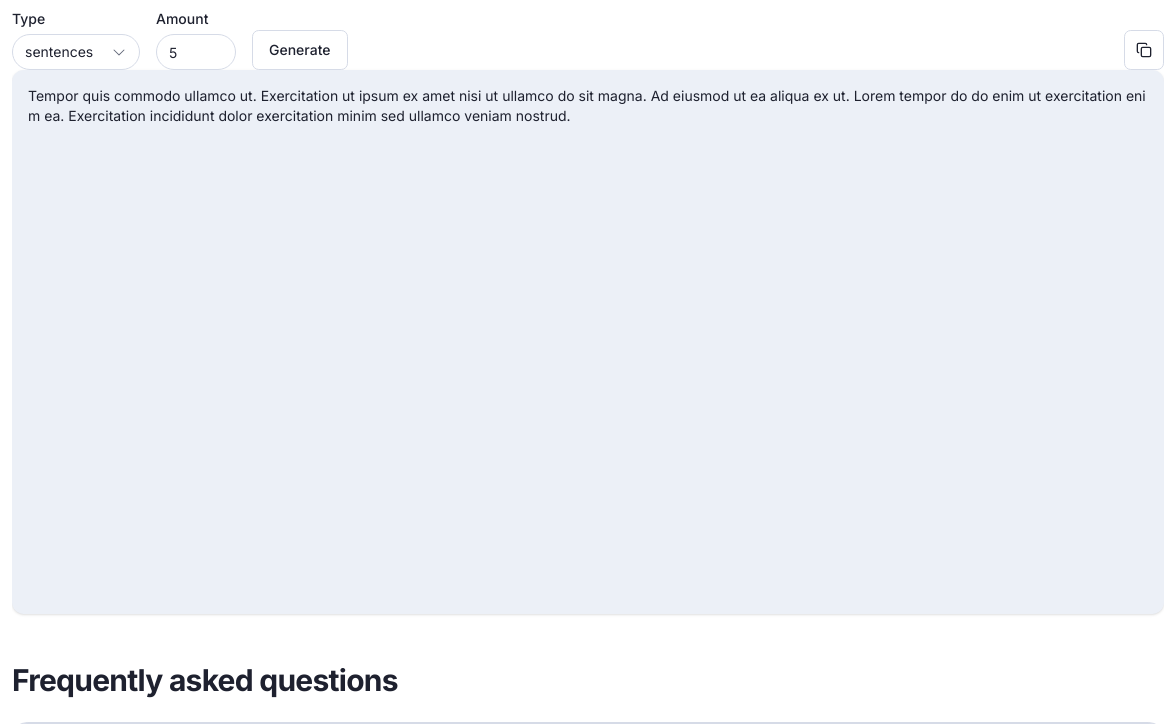
Scenario: <RandomTextGenerator /> › clamps the amount when changing to a type with a lower limit
Step 1. Click the dropdown with test id "random-text-type-trigger" → {"x": 76, "y": 52}, box [12,34,140,70]
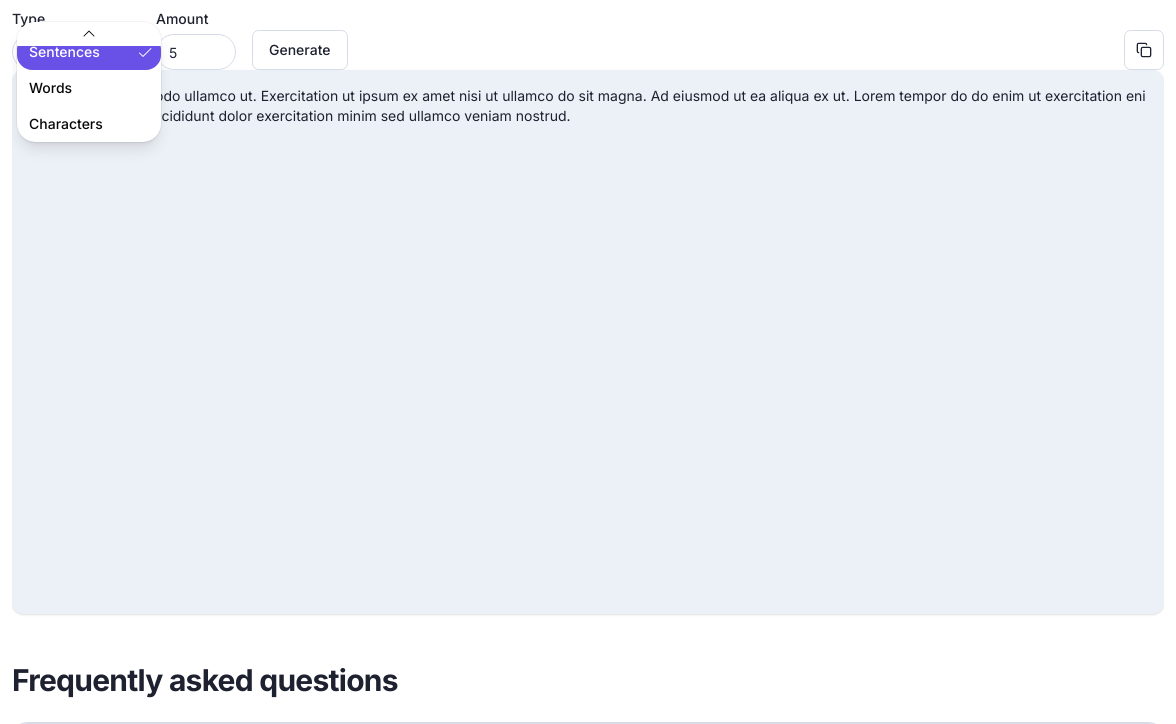
Step 2. Click the option with test id "random-text-type-words" → {"x": 51, "y": 88}, box [29,79,72,96]
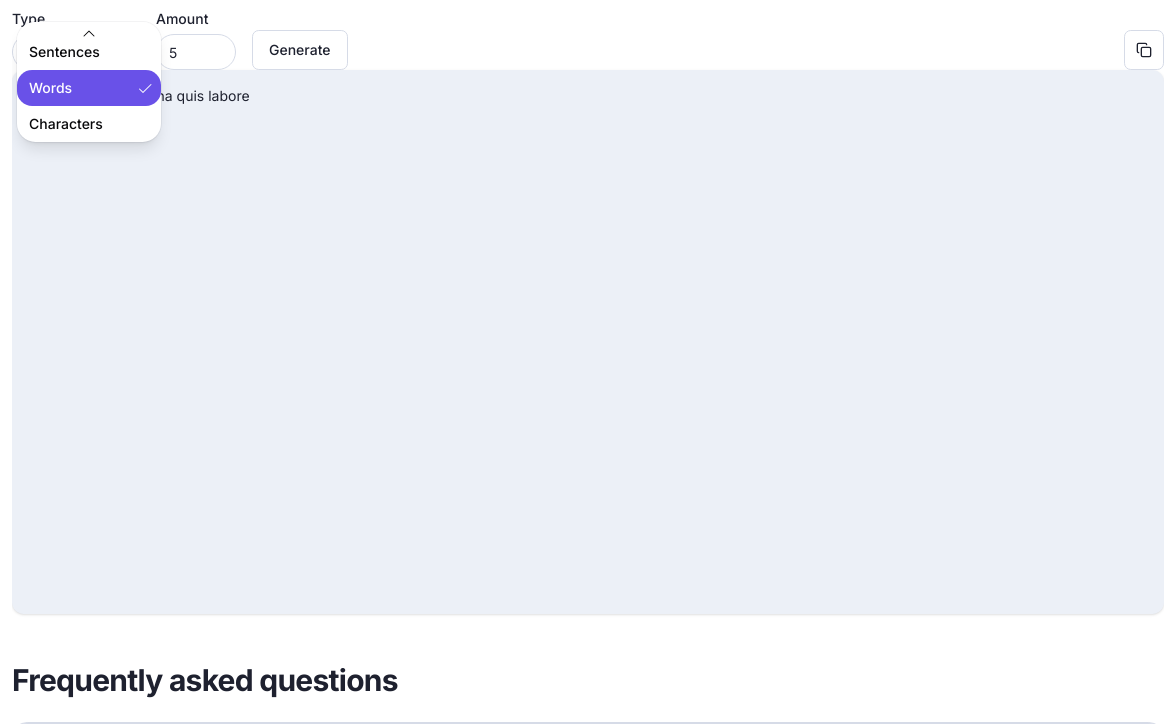
Step 3. Replace the text in the number field with test id "random-text-amount" with "1000" → {"x": 196, "y": 52}, box [156,34,236,70]
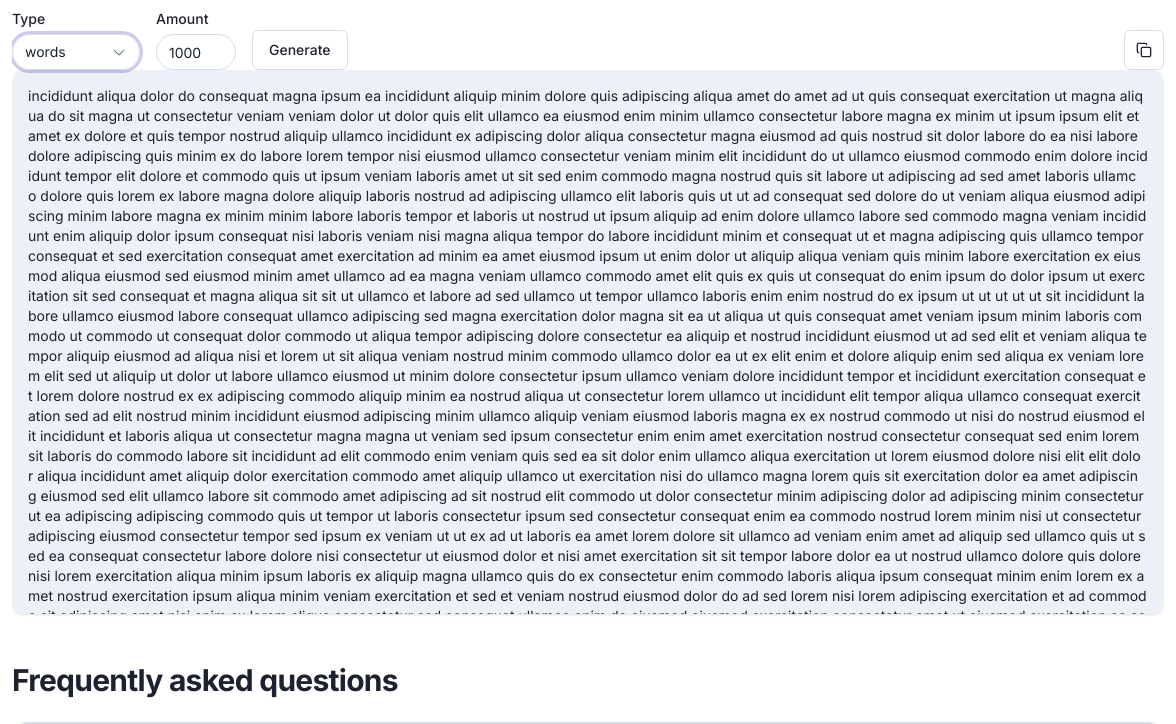
Step 4. Click the dropdown with test id "random-text-type-trigger" → {"x": 76, "y": 52}, box [12,34,140,70]
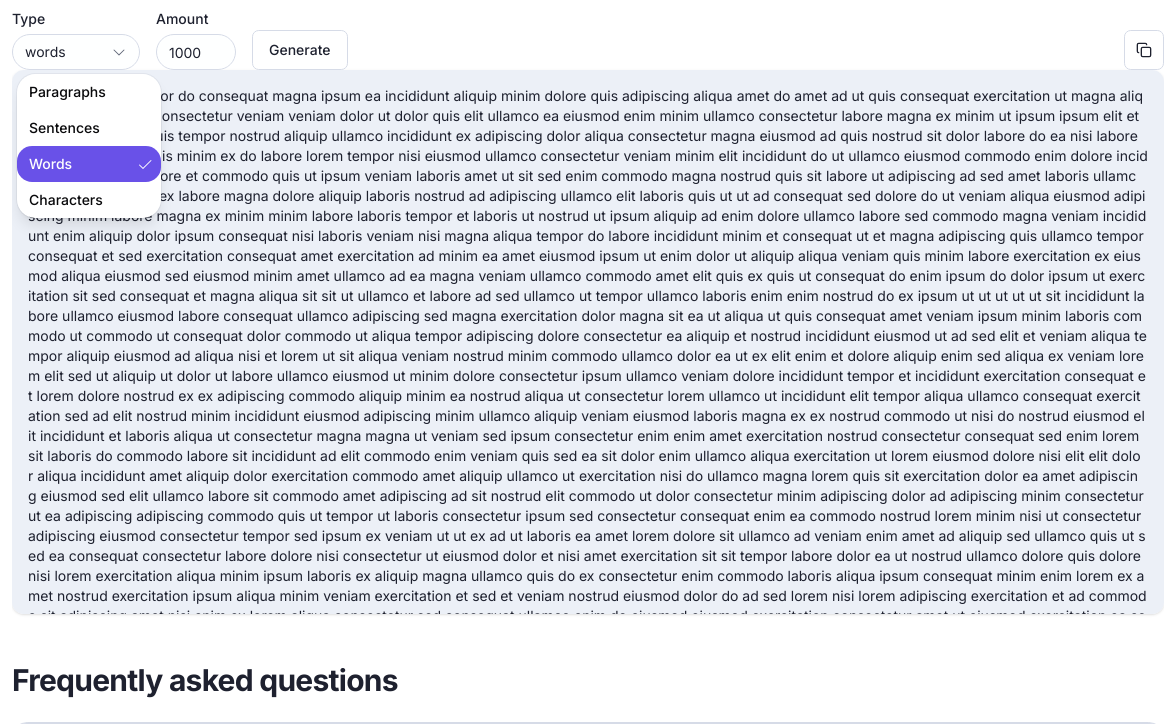
Step 5. Click the option with test id "random-text-type-paragraphs" → {"x": 67, "y": 92}, box [29,83,106,100]
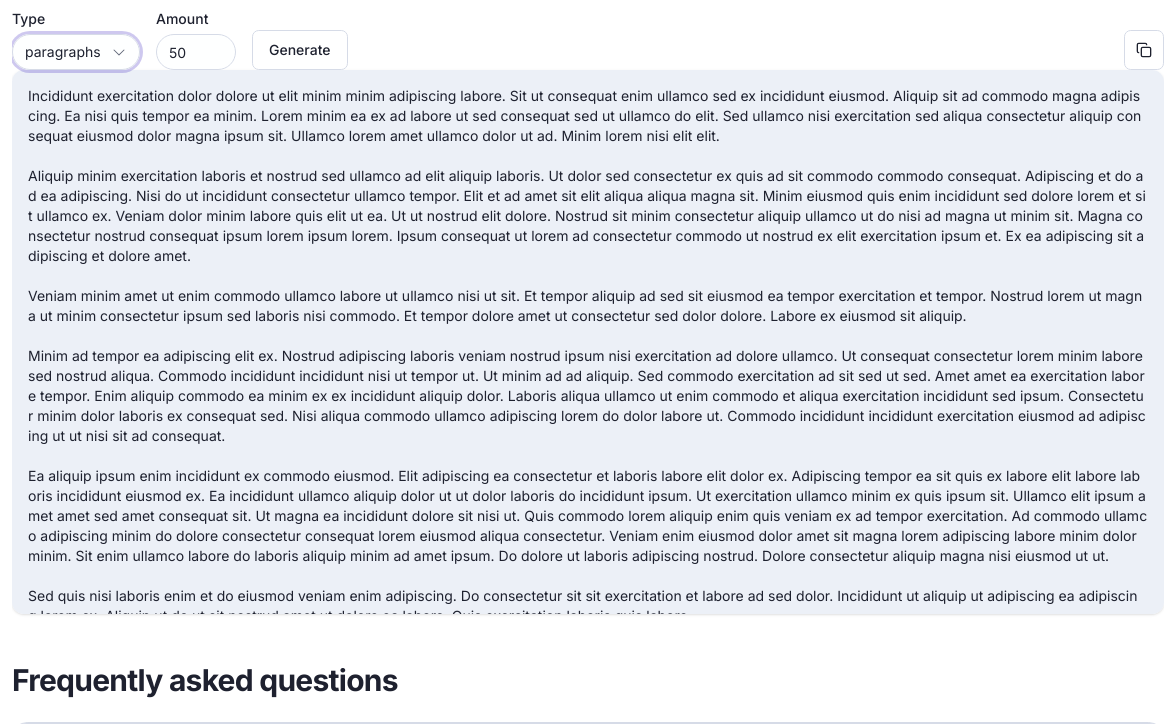
Now the number field with test id "random-text-amount" holds "50", box [156,34,236,70]
